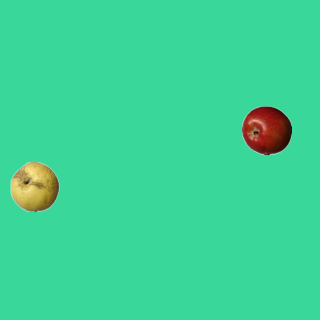Apple Braeburn: (241, 105, 291, 155)
Apple Golden 1: (9, 161, 59, 211)
